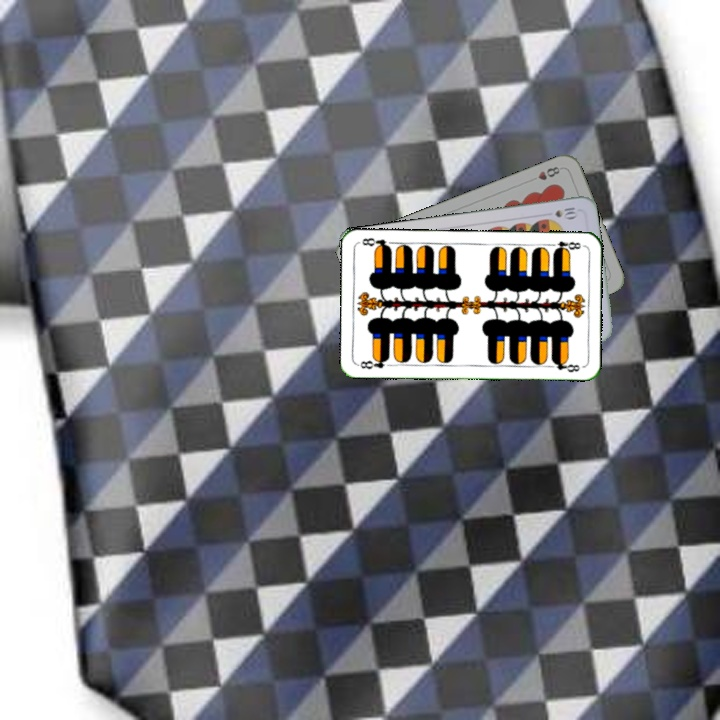E8: (355, 353, 392, 372), (545, 237, 583, 254)
H8: (534, 162, 562, 183)
S10: (551, 203, 580, 221)
